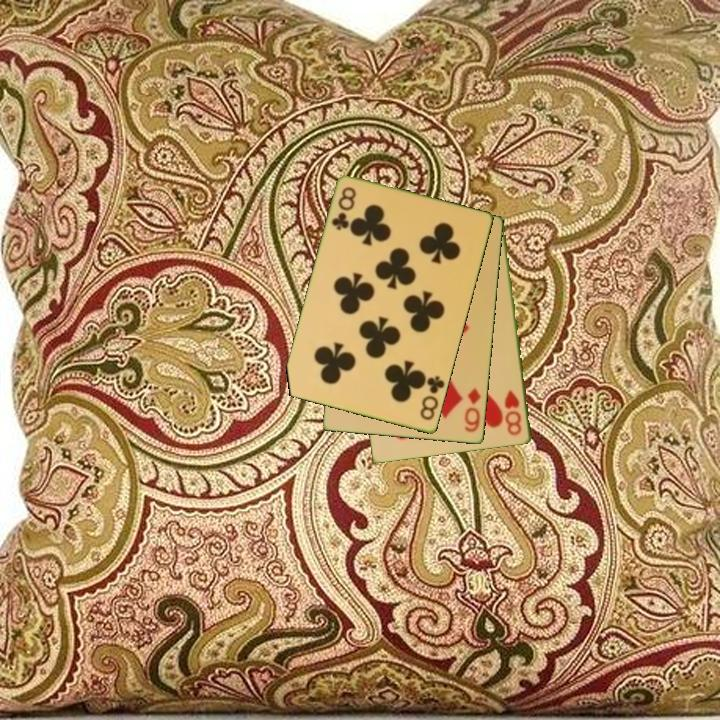6d: (461, 385, 484, 435)
8c: (328, 183, 359, 234), (417, 373, 448, 423)
8h: (501, 387, 525, 439)
